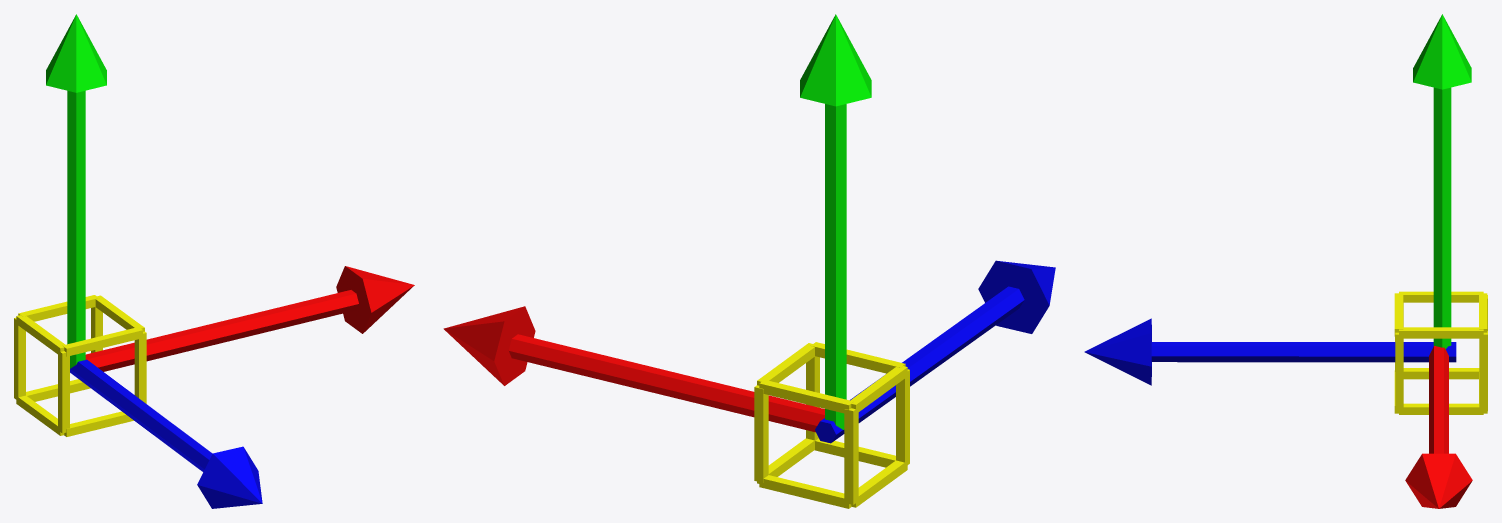
Rendered from translateTool.obj.
The picture shows the model from 3 angles, left to right: view 1: azimuth 30°, elevation 25°; view 2: azimuth 150°, elevation 25°; view 3: azimuth 270°, elevation 25°; orthographic projection. The views are drawn at different scales.
Visible parts, largest first — view 1: polySurface3, polySurface27, polySurface2, polySurface1; view 2: polySurface27, polySurface3, polySurface2, polySurface1; view 3: polySurface1, polySurface2, polySurface27, polySurface3.
Part boxes in pixels (box(x1,y1,x2,y2)): polySurface3: box(85, 266, 414, 371); polySurface27: box(14, 295, 146, 436); polySurface2: box(46, 14, 106, 368); polySurface1: box(70, 359, 262, 508); polySurface27: box(754, 342, 909, 508); polySurface3: box(443, 306, 824, 432); polySurface2: box(800, 14, 871, 429); polySurface1: box(815, 260, 1055, 443); polySurface1: box(1084, 318, 1456, 385); polySurface2: box(1413, 14, 1471, 349); polySurface27: box(1394, 291, 1487, 414); polySurface3: box(1405, 346, 1472, 508).
Bounding box in the file's own units: 1.23 × 1.24 × 1.19.
